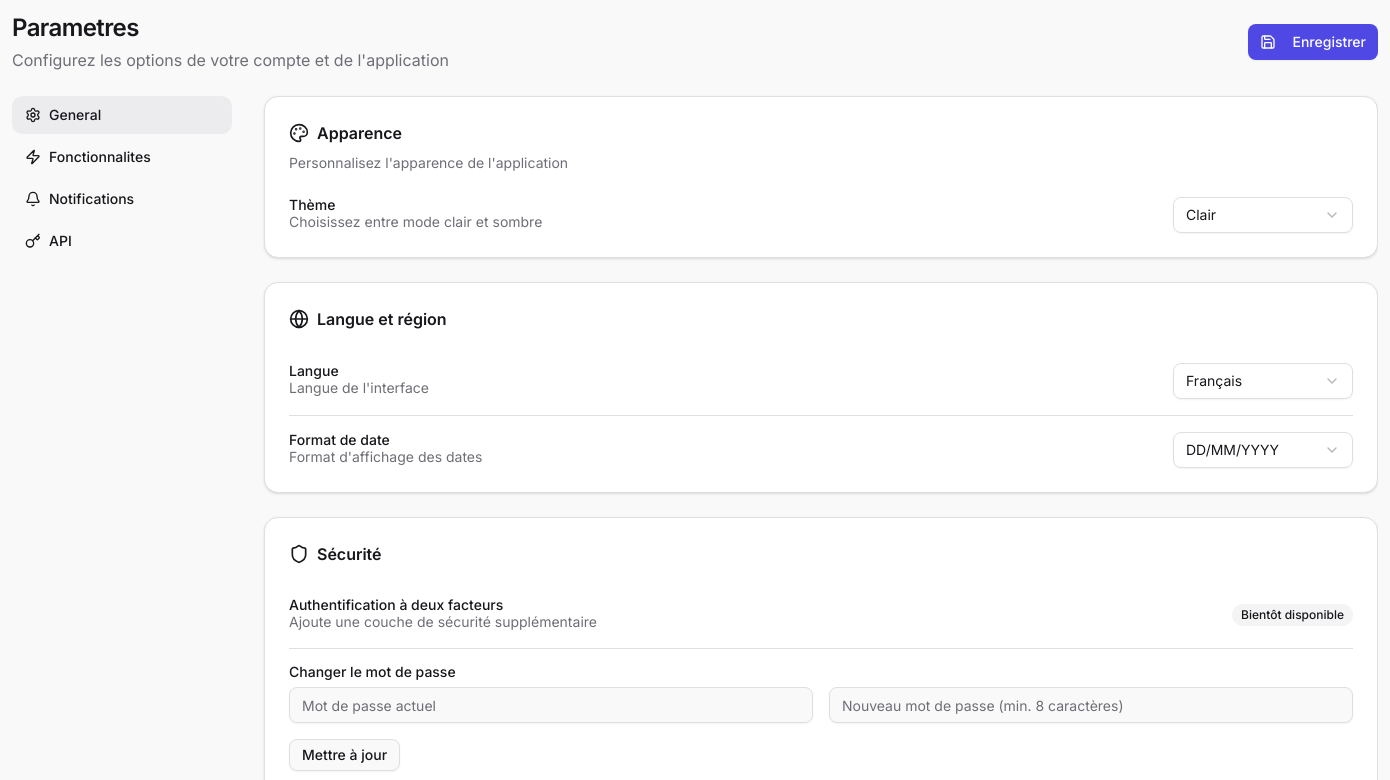
Scenario: SettingsPage › Notifications Tab › should render notifications tab when clicked
Click the tab "Notifications" at (122, 199), box [12, 180, 232, 218]
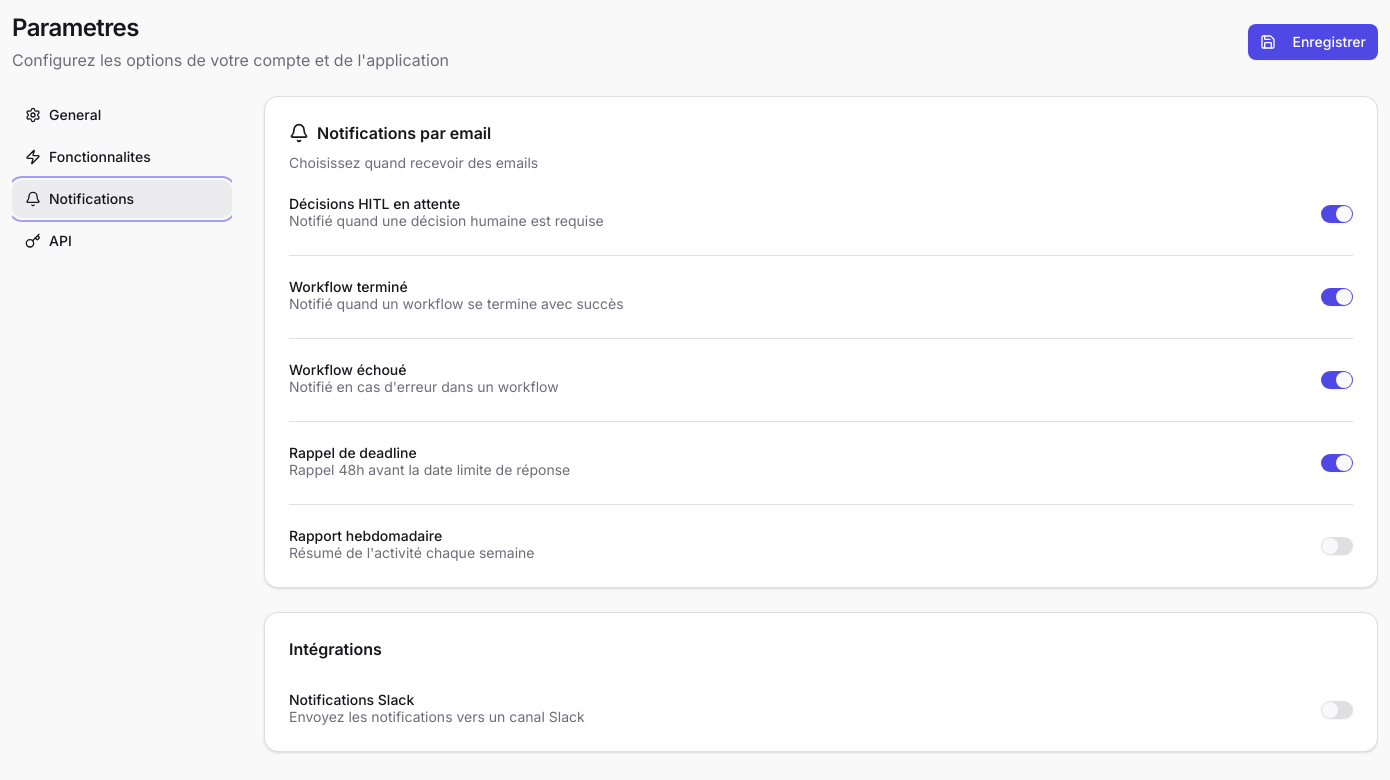
Result: the text "Décisions HITL en attente" is shown at [289, 195, 460, 212]
Result: the text "Workflow terminé" is shown at [289, 278, 408, 295]
Result: the text "Workflow échoué" is shown at [289, 361, 406, 378]
